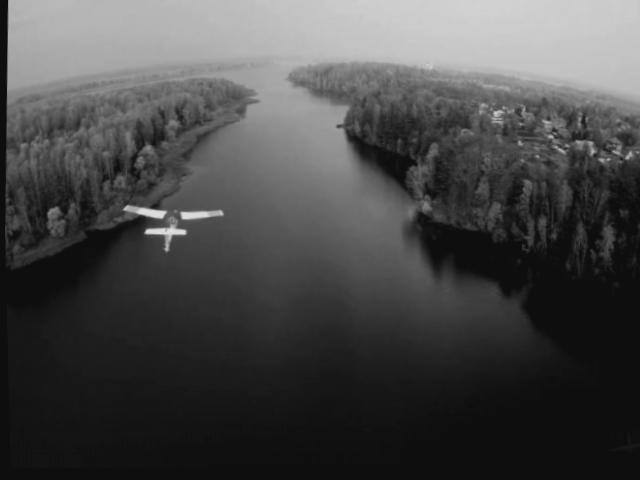hedef: (121, 192, 228, 262)
